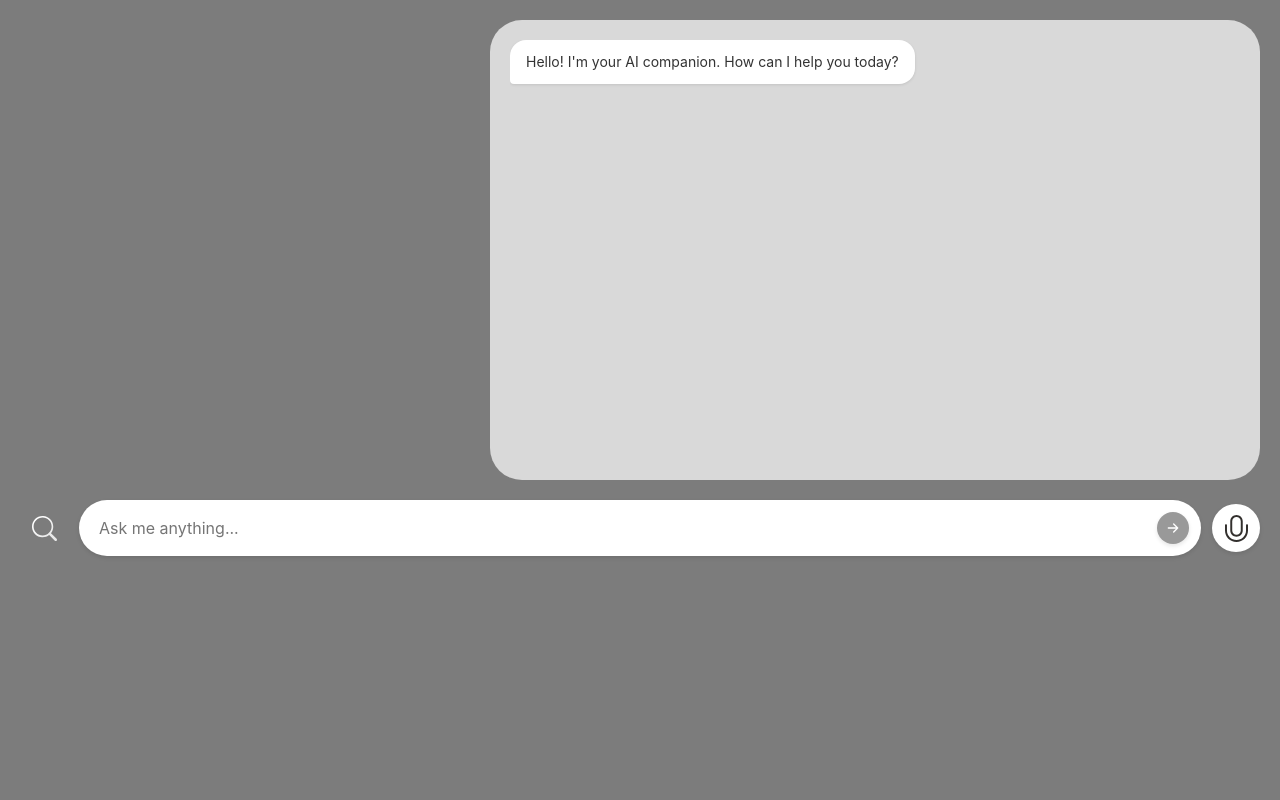
Test case: a failed submission offers explicit retry without another user bubble or automatic inference
Type "My question" into the field at (640,528), box [79,500,1201,556]
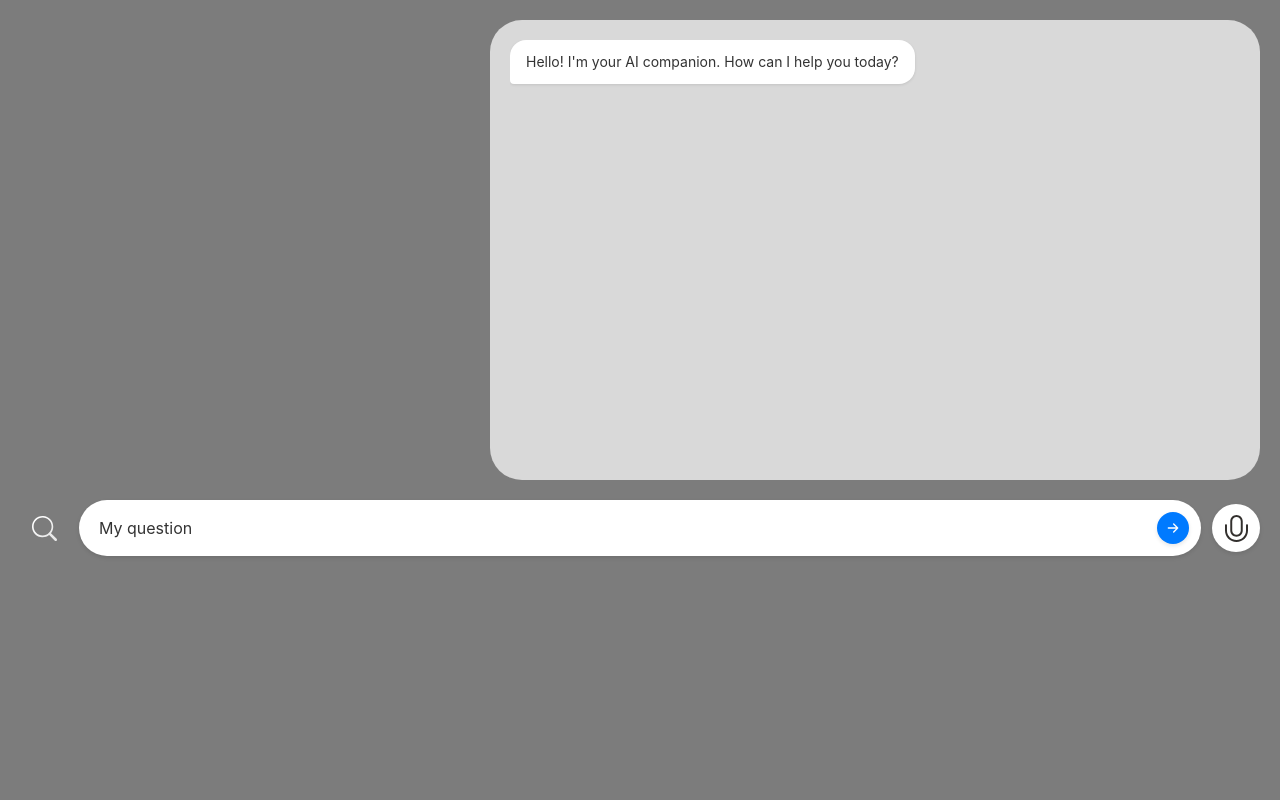
Click the button named "Send message" at (1173,528), box [1157,512,1189,544]
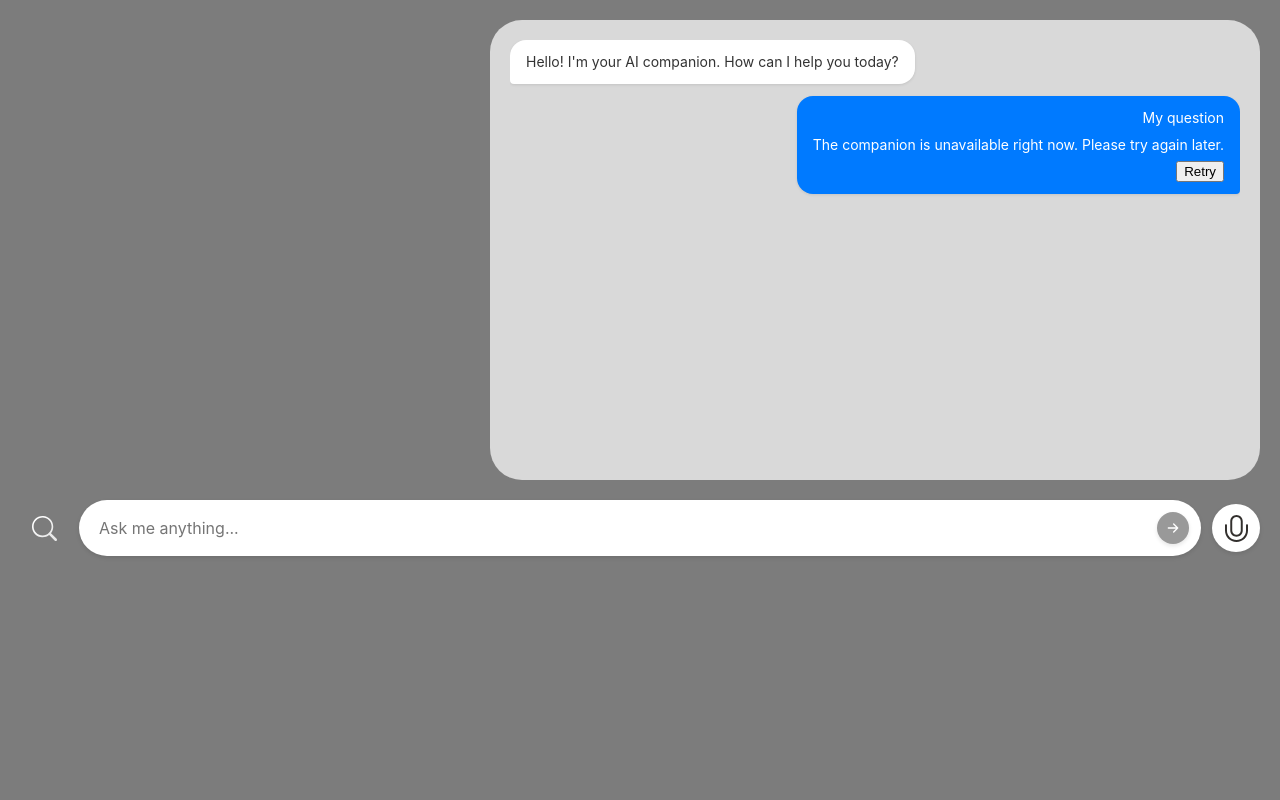
Expected: the message reads "The companion is unavailable right now. Please try again later.", [813,136,1224,153]
Expected: the text "My question" is shown once, [797,96,1240,194]
Click the button with aria-label "Retry message" at (1200,171), box [1176,161,1224,182]
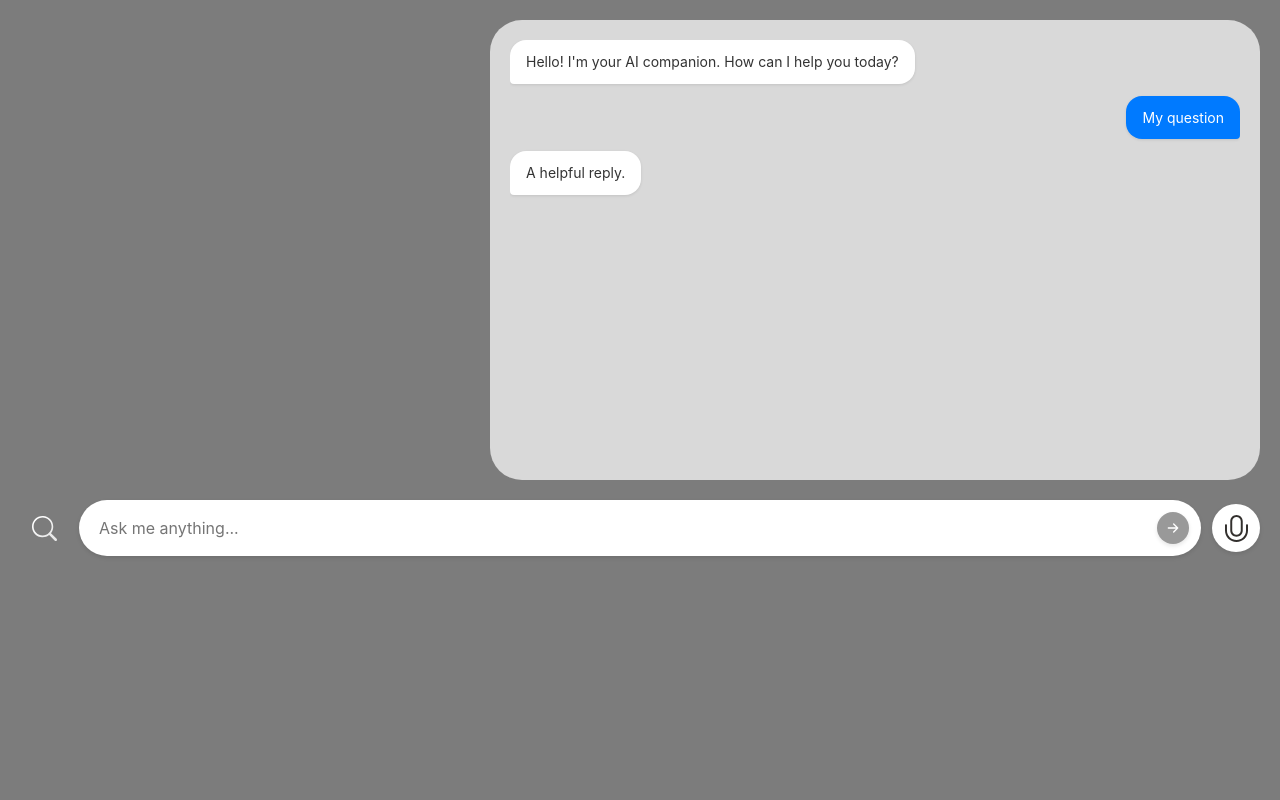
Expected: the text "My question" is shown once, [1126,96,1240,139]
Expected: the text "A helpful reply." is shown once, [510,151,641,195]
